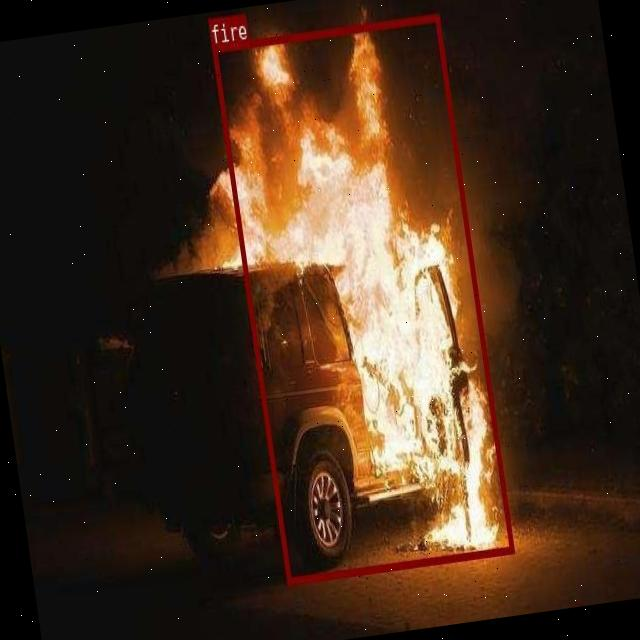fire: (211, 12, 513, 584)
